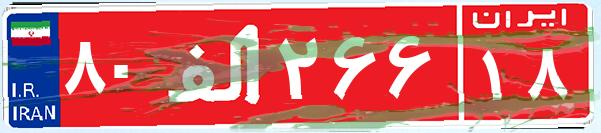0: (110, 28, 158, 105)
1: (475, 38, 525, 113)
2: (273, 28, 330, 110)
6: (385, 28, 445, 110), (330, 28, 385, 110)
8: (57, 26, 110, 107), (525, 38, 570, 115)
الف: (158, 15, 273, 115)
